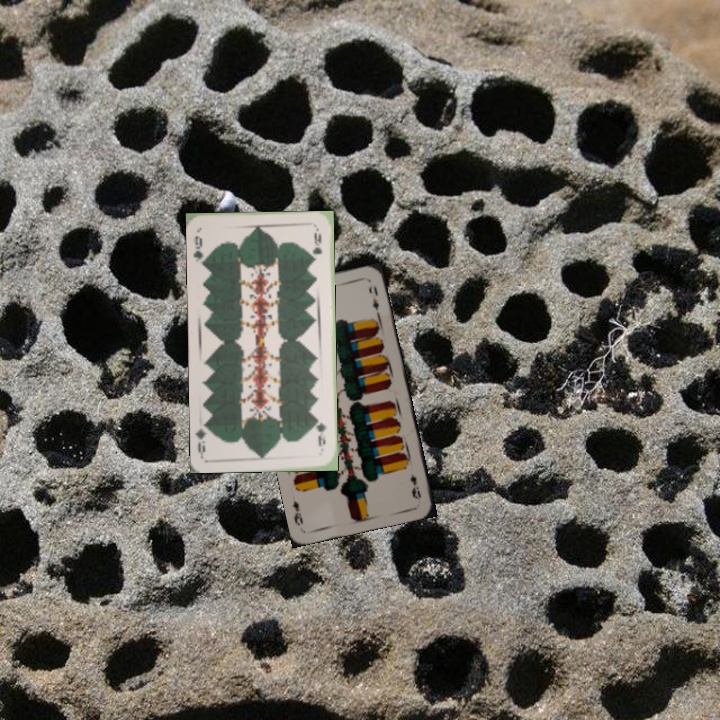E9: (406, 471, 424, 503)
G9: (313, 415, 329, 449), (189, 232, 205, 264)
